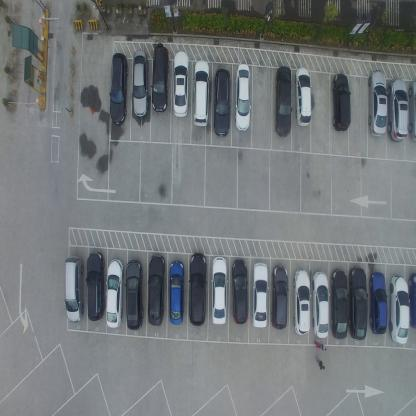car: (109, 52, 130, 127), (86, 249, 106, 320), (389, 274, 409, 345), (349, 266, 368, 340), (125, 257, 144, 331), (147, 254, 166, 327), (151, 42, 170, 114), (330, 268, 349, 340), (64, 255, 84, 323), (105, 257, 124, 328), (191, 60, 211, 127), (368, 70, 388, 137), (188, 252, 206, 326), (388, 77, 408, 143), (274, 65, 292, 138), (213, 68, 231, 139), (209, 255, 227, 325), (292, 267, 310, 337), (132, 50, 150, 119), (252, 262, 270, 330), (270, 264, 288, 331), (330, 72, 350, 132), (312, 270, 329, 340), (172, 50, 189, 119), (230, 258, 247, 326), (369, 272, 387, 336), (235, 63, 251, 133), (294, 65, 312, 127), (168, 258, 184, 326), (408, 80, 416, 144), (408, 272, 416, 330)
